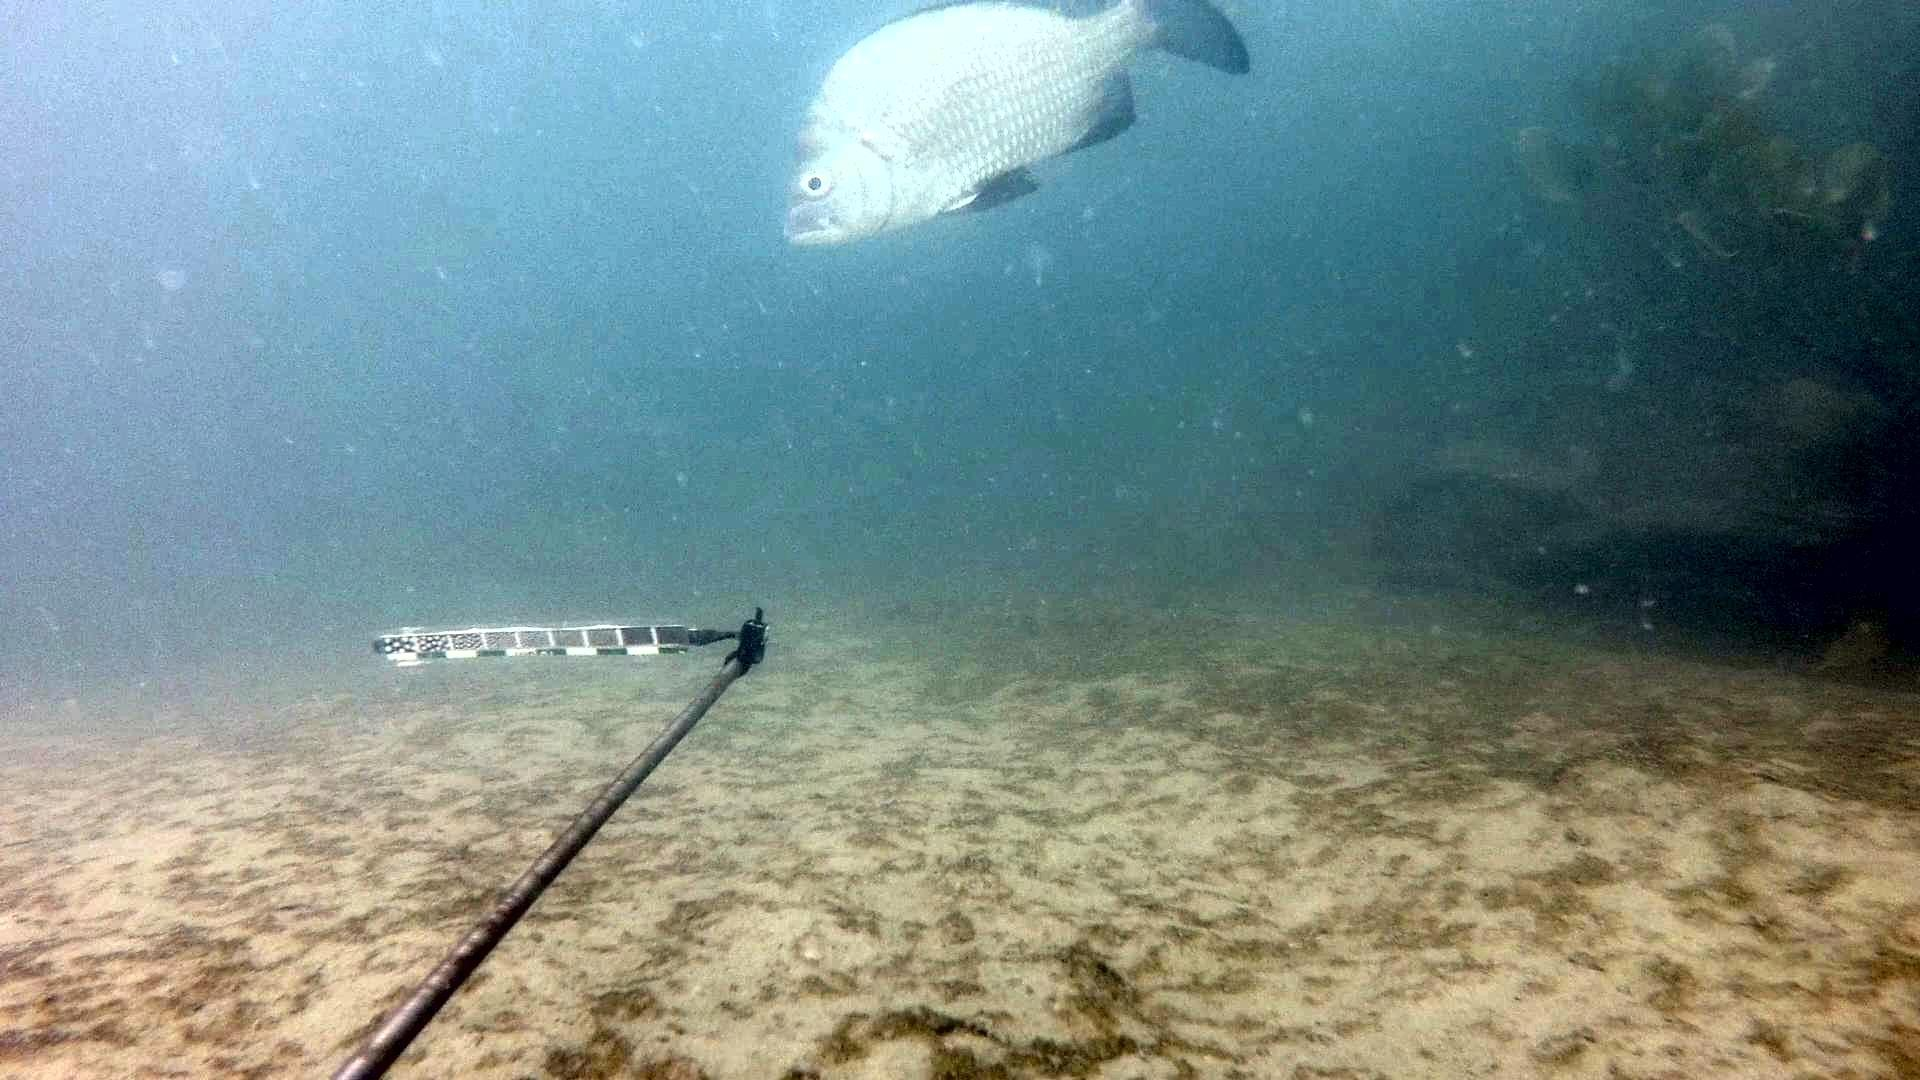acanthopagrus palmaris: (773, 0, 1267, 258)
